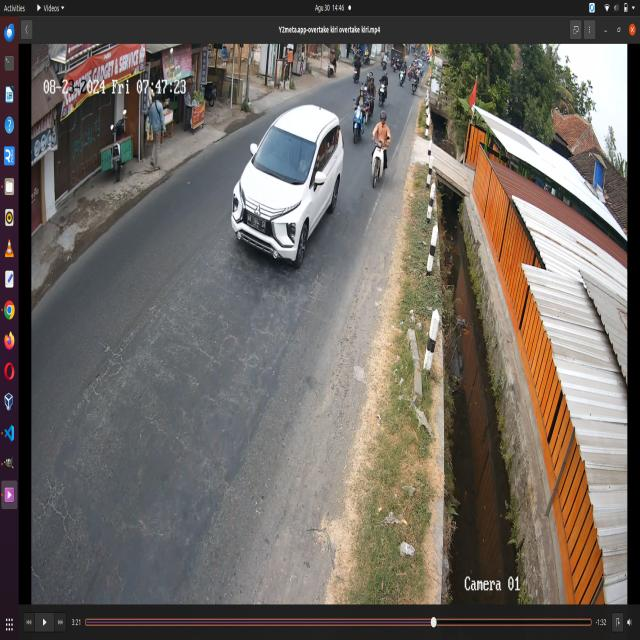person_with_seatbelt: (298, 146, 316, 186)
